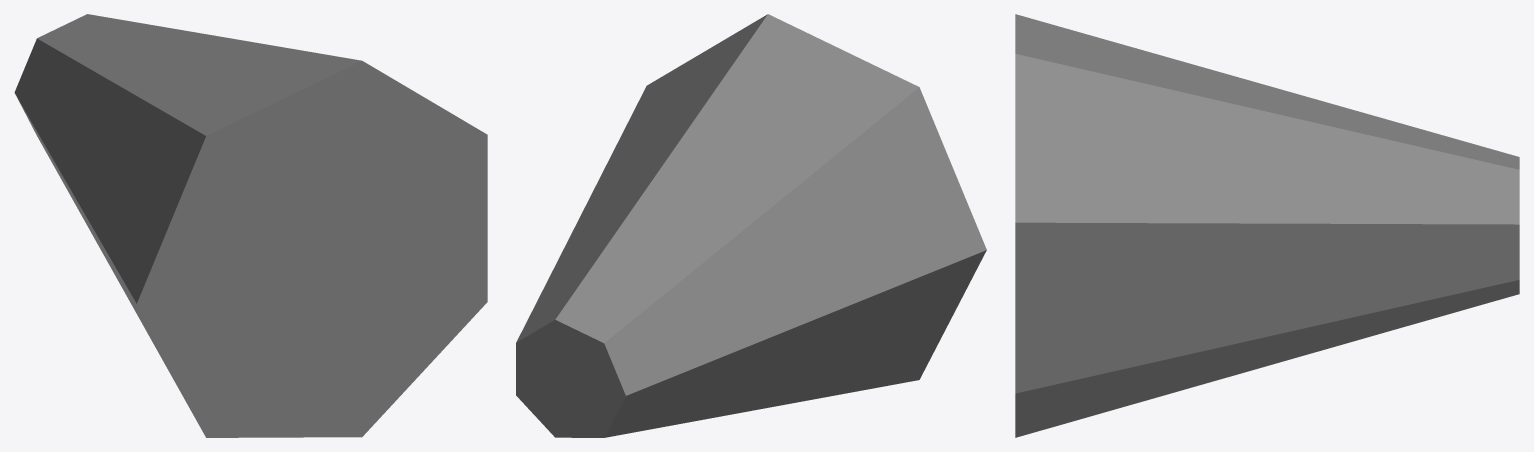
File: testthruster.obj
3 views of the same model, side by side, from view 1: azimuth 30°, elevation 25°; view 2: azimuth 150°, elevation 25°; view 3: azimuth 270°, elevation 25° (orthographic). The views are drawn at different scales.
Parts seen in each view (by area): view 1: obj.thruster.000_Cone; view 2: obj.thruster.000_Cone; view 3: obj.thruster.000_Cone.
Part boxes in pixels (box(x1,y1,x2,y2)): obj.thruster.000_Cone: box(14, 14, 487, 437); obj.thruster.000_Cone: box(516, 14, 986, 437); obj.thruster.000_Cone: box(1015, 14, 1519, 437).
Size of the model in its own units: 0.111 by 0.1139 by 0.1355.
